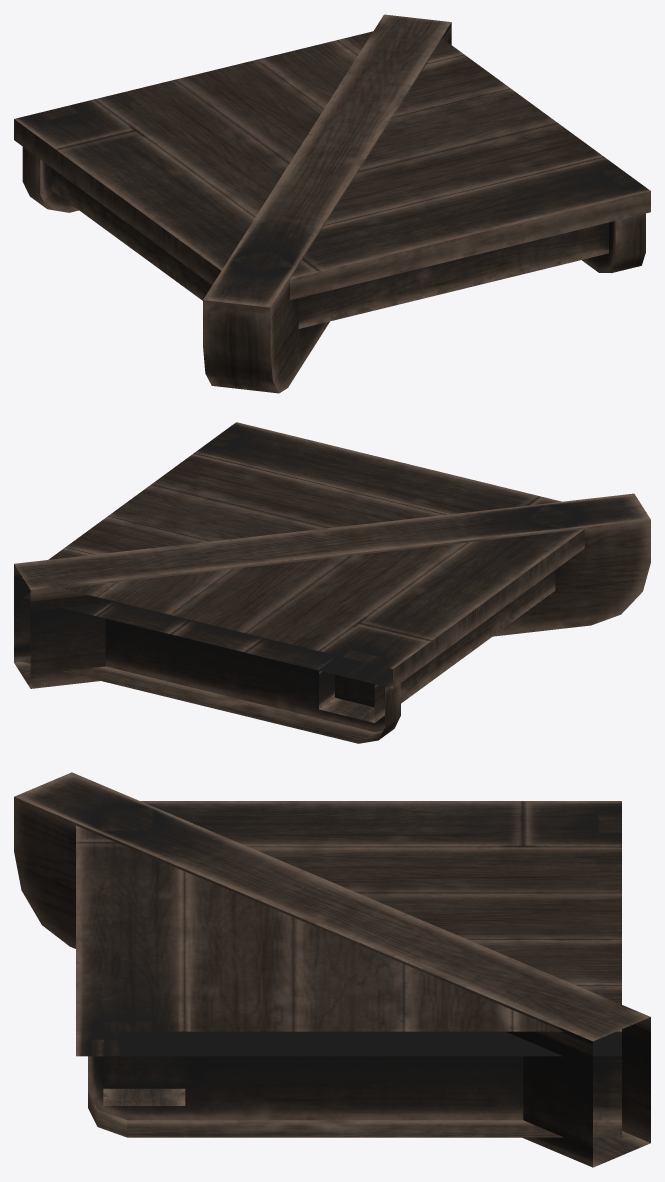
The model's file is Balcony Cornner.fbx.
3 views of the same model, one above another, from view 1: azimuth 30°, elevation 25°; view 2: azimuth 150°, elevation 25°; view 3: azimuth 270°, elevation 25° (orthographic). The views are drawn at different scales.
Parts seen in each view (by area): view 1: Balcony Cornner; view 2: Balcony Cornner; view 3: Balcony Cornner.
Boxes of the visible parts, bbox=[...] form: Balcony Cornner: bbox=[14, 14, 650, 393]; Balcony Cornner: bbox=[14, 422, 650, 743]; Balcony Cornner: bbox=[14, 772, 650, 1167].
Bounding box in the file's own units: 2.33 × 0.51 × 2.33.
